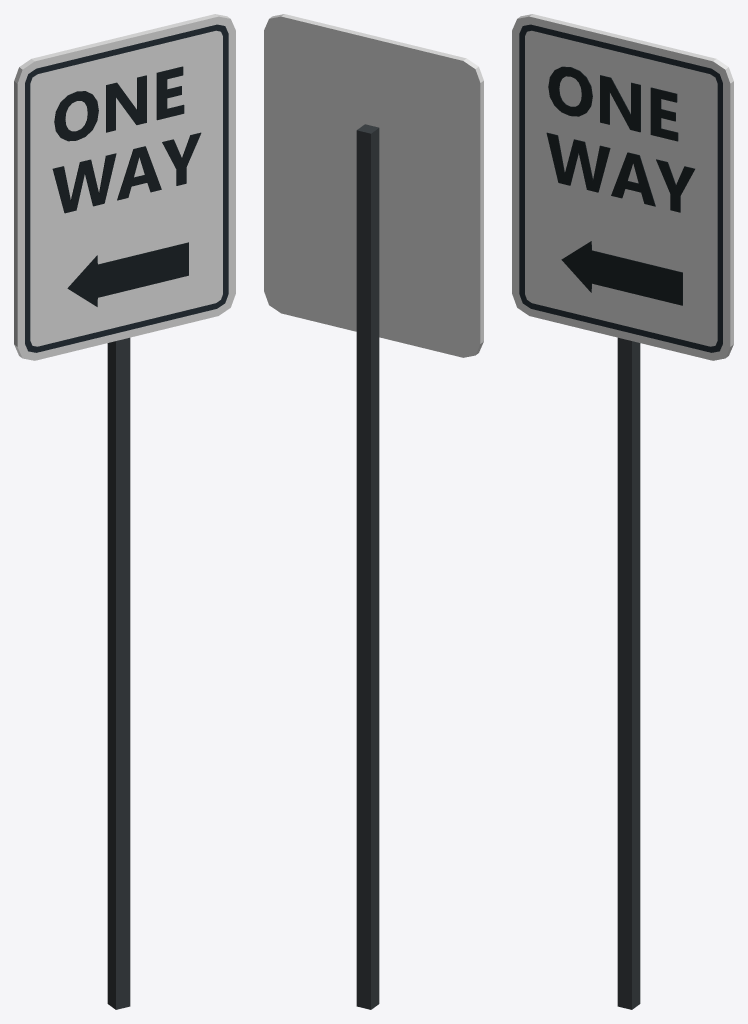
File: SM_FloorProps_RoadSign_20.fbx
3 renders of one model, left to right at view 1: azimuth 30°, elevation 25°; view 2: azimuth 150°, elevation 25°; view 3: azimuth 330°, elevation 25°, orthographic.
Visible parts, largest first — view 1: SM_FloorProps_RoadSign_20; view 2: SM_FloorProps_RoadSign_20; view 3: SM_FloorProps_RoadSign_20.
Boxes of the visible parts, x1,y1,x2,y2 form: SM_FloorProps_RoadSign_20: (14, 14, 235, 1009); SM_FloorProps_RoadSign_20: (264, 14, 483, 1009); SM_FloorProps_RoadSign_20: (512, 14, 733, 1009).
Size of the model in its own units: 0.6461 by 2.75 by 0.0634.
